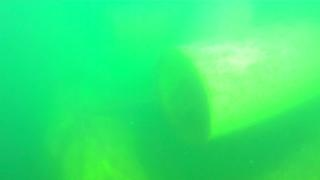pipe: (153, 20, 320, 143), (41, 107, 146, 180)
